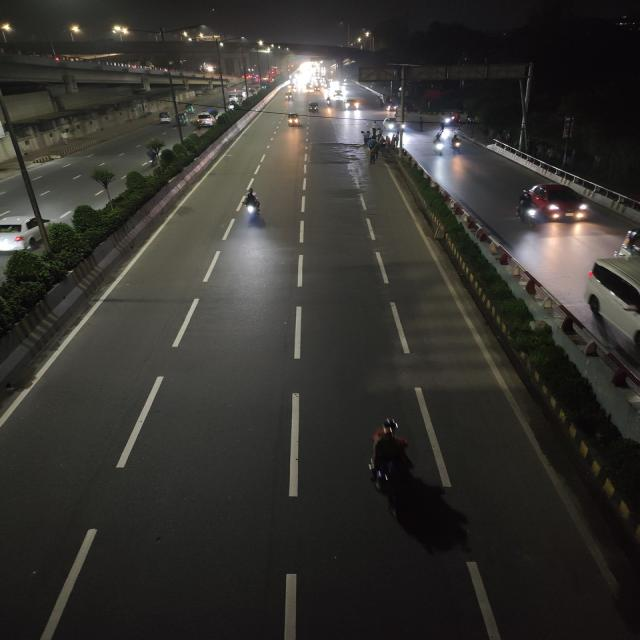car: (580, 255, 640, 362), (540, 182, 594, 229), (0, 211, 53, 256), (195, 112, 214, 128), (344, 98, 361, 110)
cng: (285, 112, 302, 128), (156, 110, 172, 124), (176, 111, 192, 125), (182, 102, 196, 114), (307, 102, 320, 114)
motorcycle: (237, 188, 272, 230), (512, 189, 539, 229), (431, 137, 447, 159), (448, 136, 464, 154)
pedestrian: (366, 140, 382, 163), (369, 120, 378, 137), (437, 118, 447, 131), (417, 115, 424, 132)
